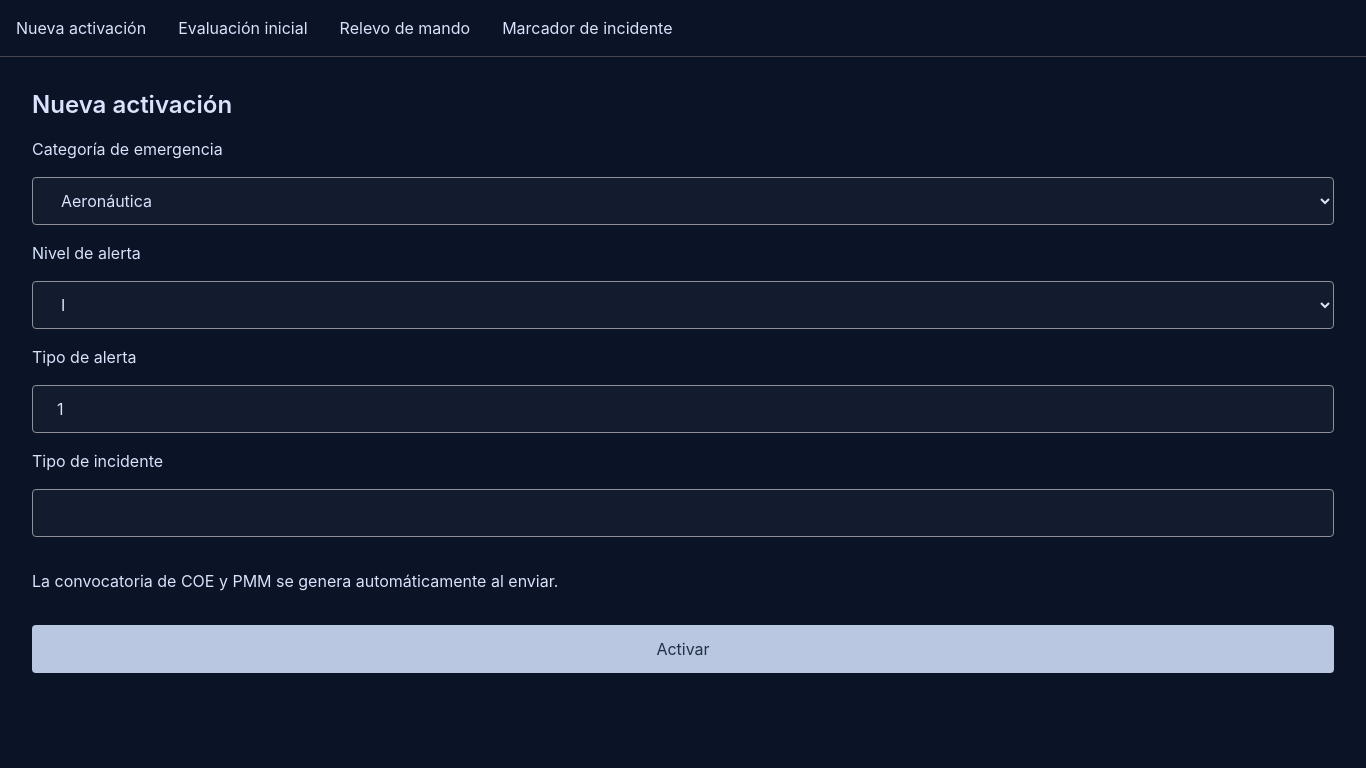
Scenario: Shell (pmm) › con el rol correcto, muestra el enlace a Evaluación inicial y navega
Click the link "Evaluación inicial" at (243, 28), box [178, 16, 308, 40]
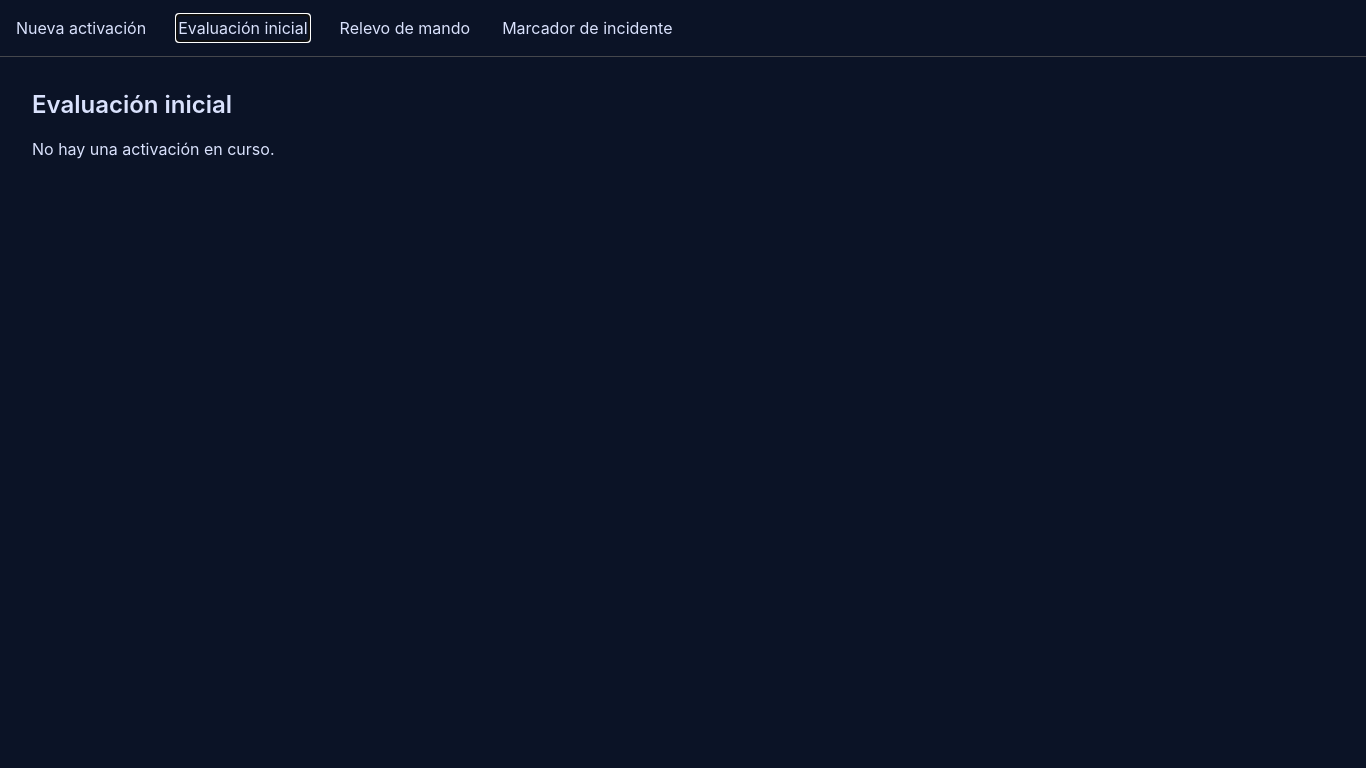
Expected: the heading "Evaluación inicial" is shown, [32, 90, 232, 119]
